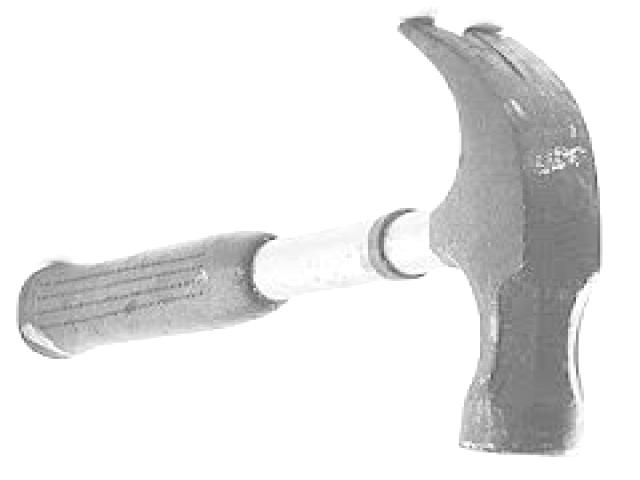Hammer: (19, 19, 600, 454)
